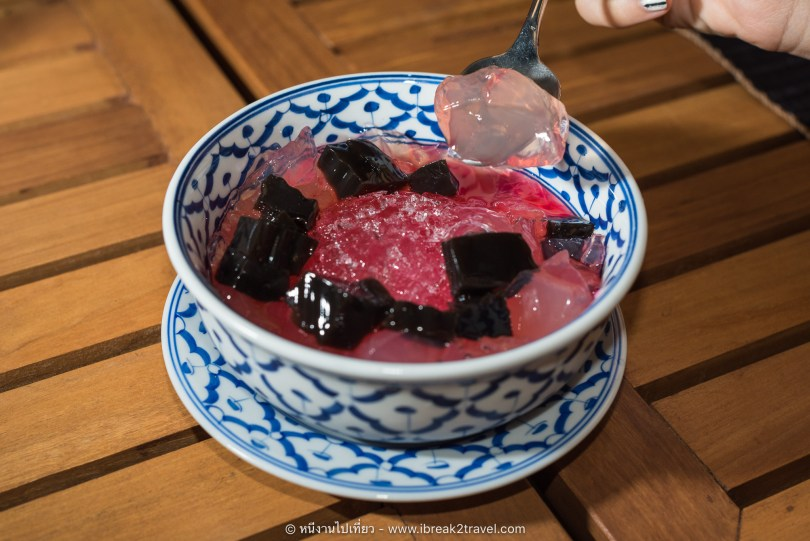O-eo: (182, 68, 646, 432)
